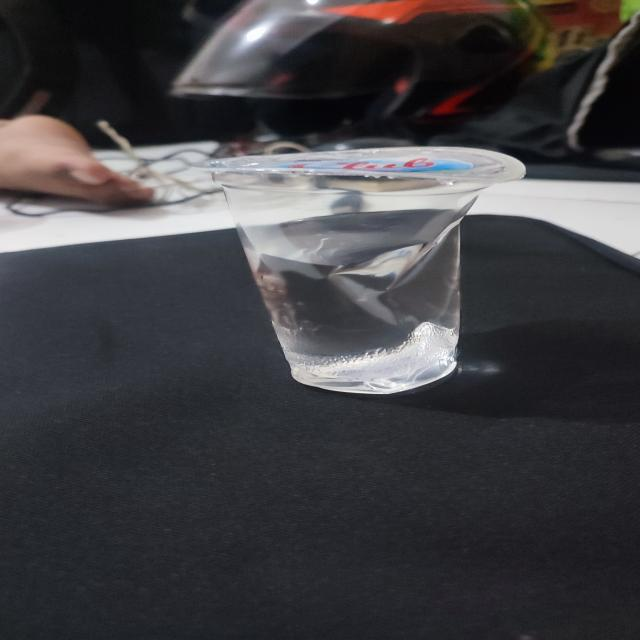air-gelas-rusak: (183, 137, 529, 399)
